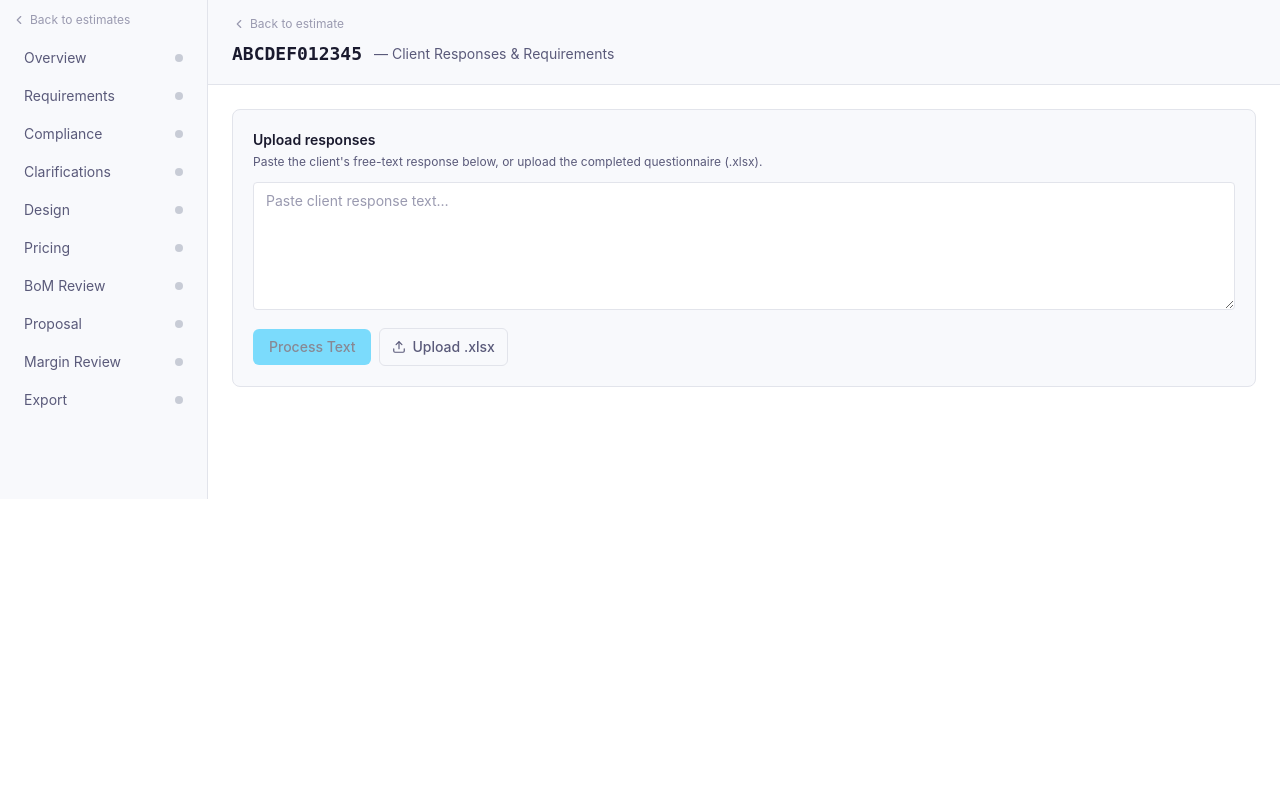
Test: ResponsesPage › submits typed text via POST when uploading
The width and height of the screenshot is (1280, 800).
Step 1. Type "All sites use fiber." into the text box with placeholder "Paste client response text…" → (744, 246), box [253,182,1235,310]
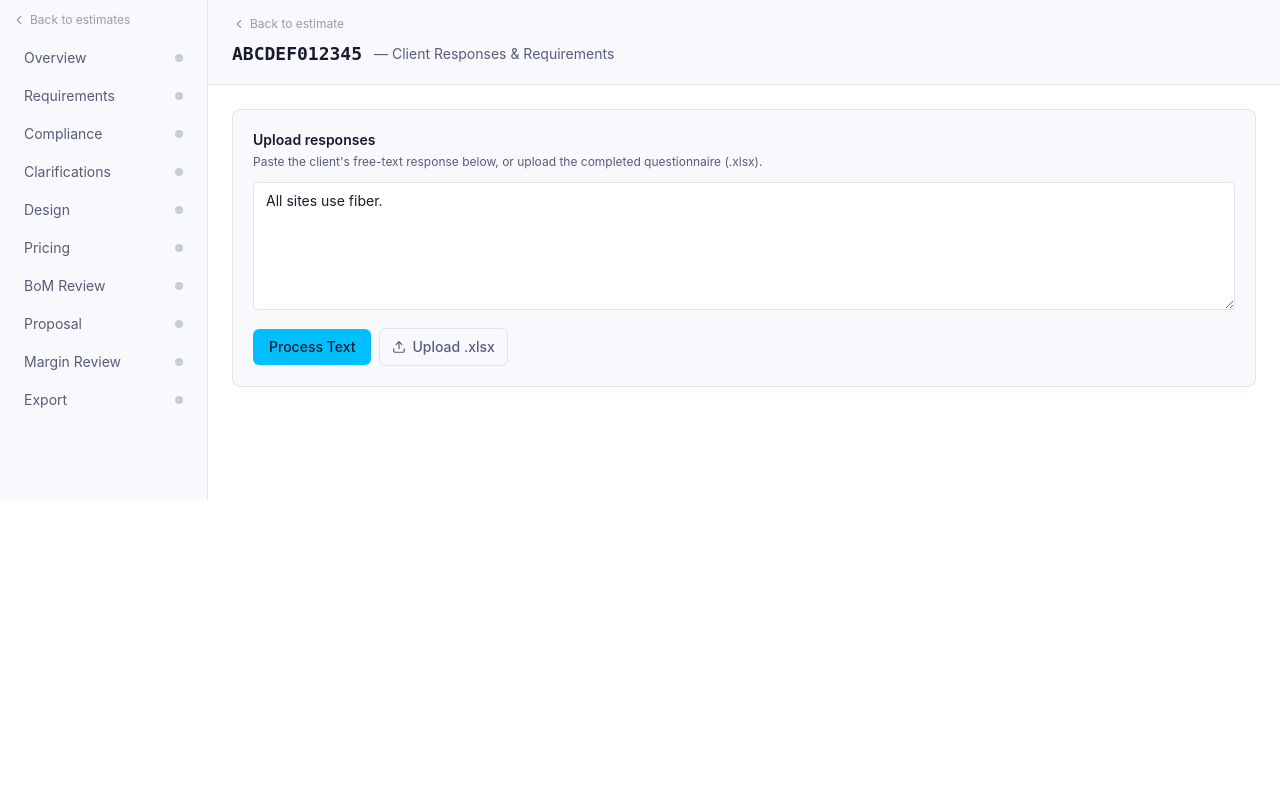
Step 2. Click the button "Process Text" → (312, 347), box [253,329,372,365]
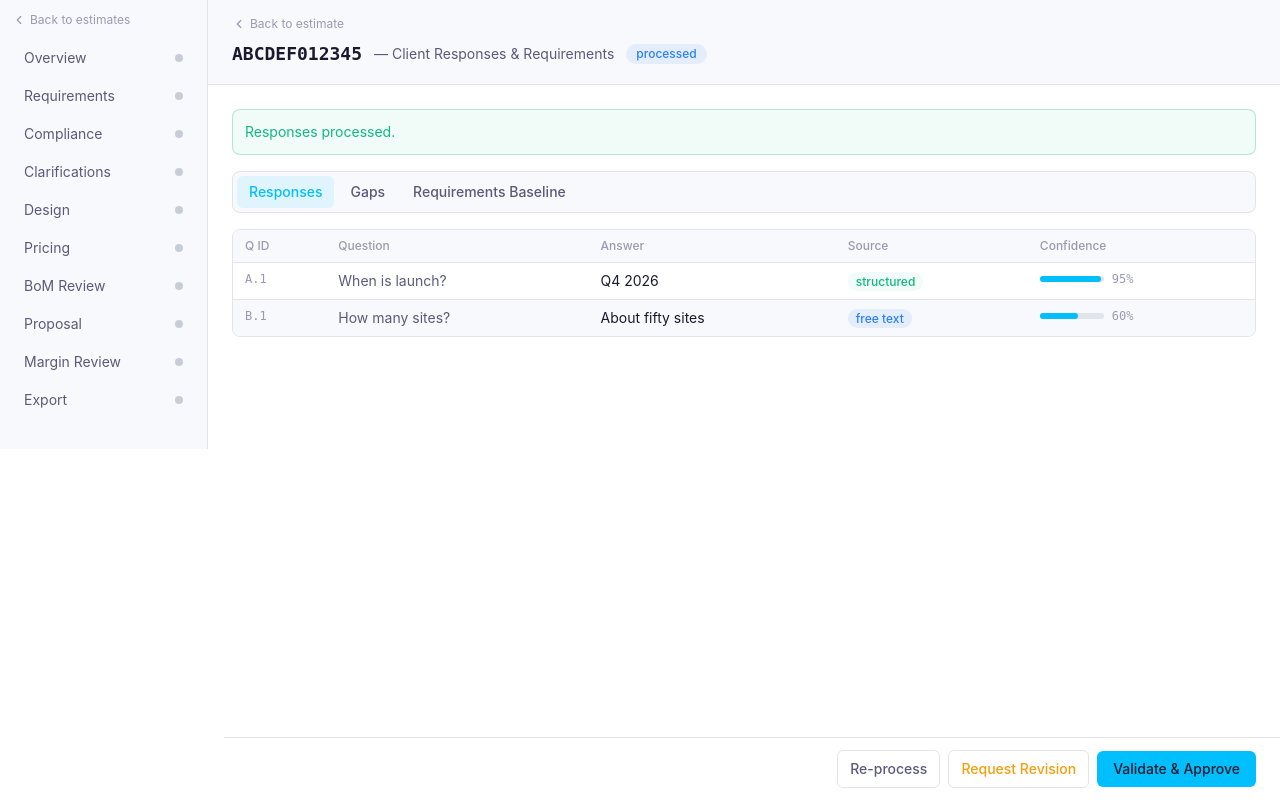
Expected: the text "Responses processed." is shown, [232,109,1256,155]
